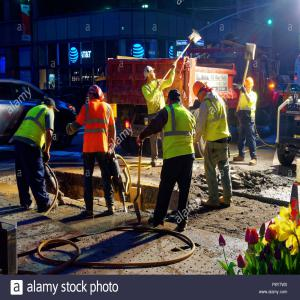none: (168, 90, 183, 106), (88, 86, 101, 103), (44, 99, 57, 114)
red: (193, 81, 209, 104)
white: (144, 67, 157, 83)
yellow: (245, 77, 255, 94)
